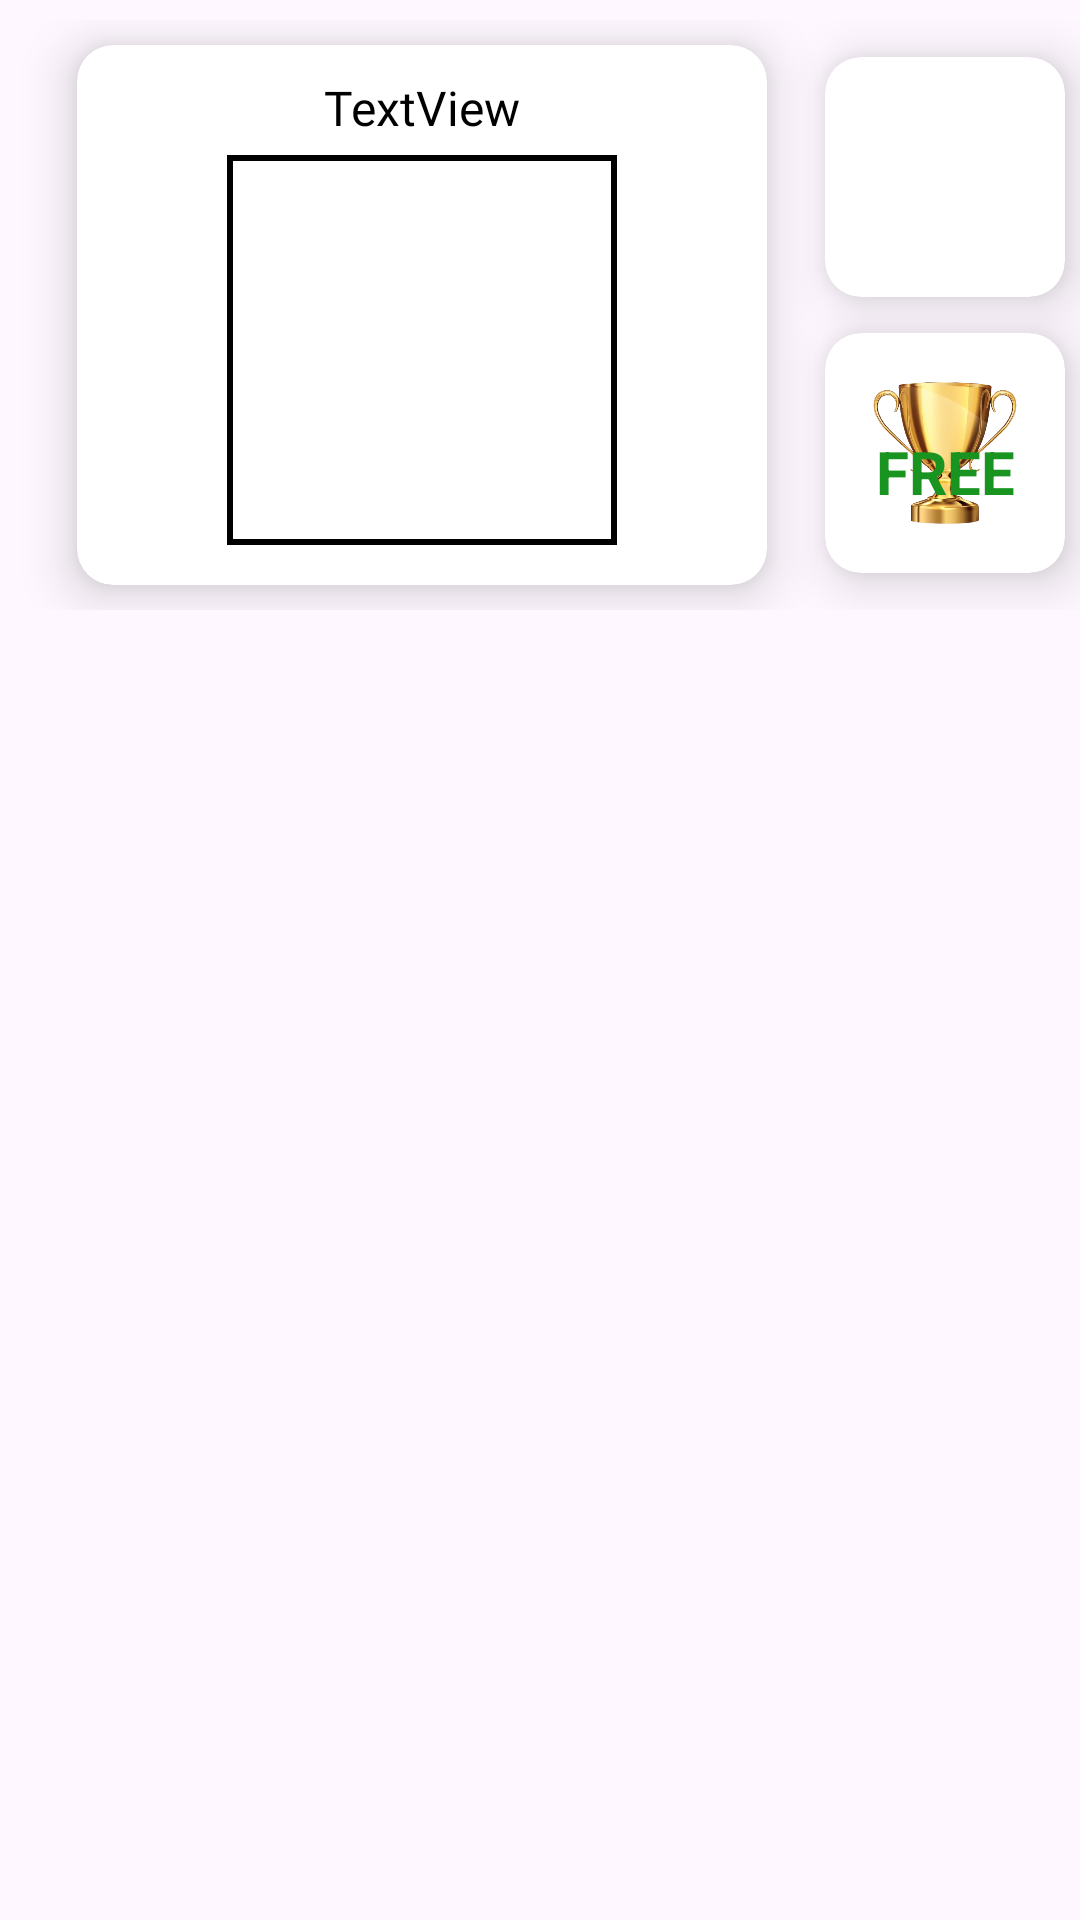

Where icons sit on this 1080×1920 app screen, as [x1=x1, y1=y1, x2=x2, y2=y2]:
copa: [x1=873, y1=382, x2=1017, y2=524]
